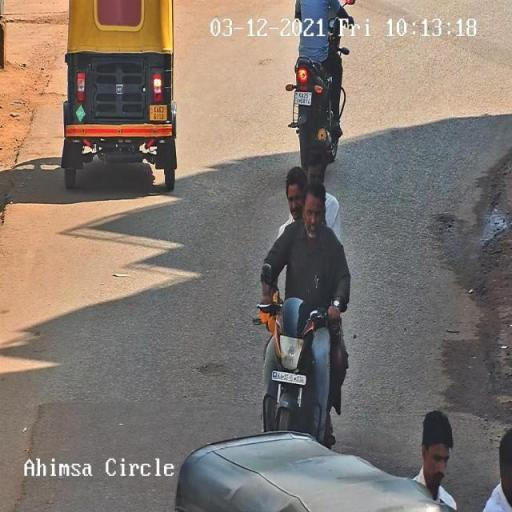tripple riding: (259, 137, 355, 299)
